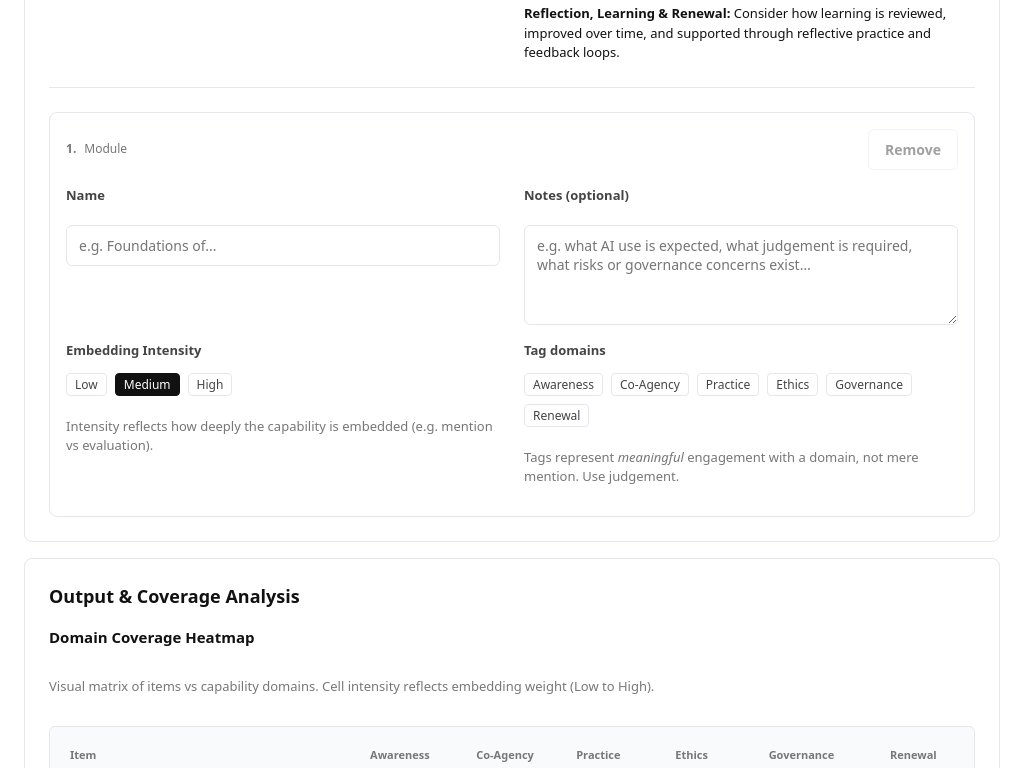
Test: AI Capability Programme Mapping — Regression Tests › 4. Capability domain mapping, gap calculations, and balance logic › toggles capability domain tags on and off and updates badge counts
(page scrolled)
Click the button "Ethics" at x=793, y=384, box [767, 372, 818, 396]
(page scrolled)
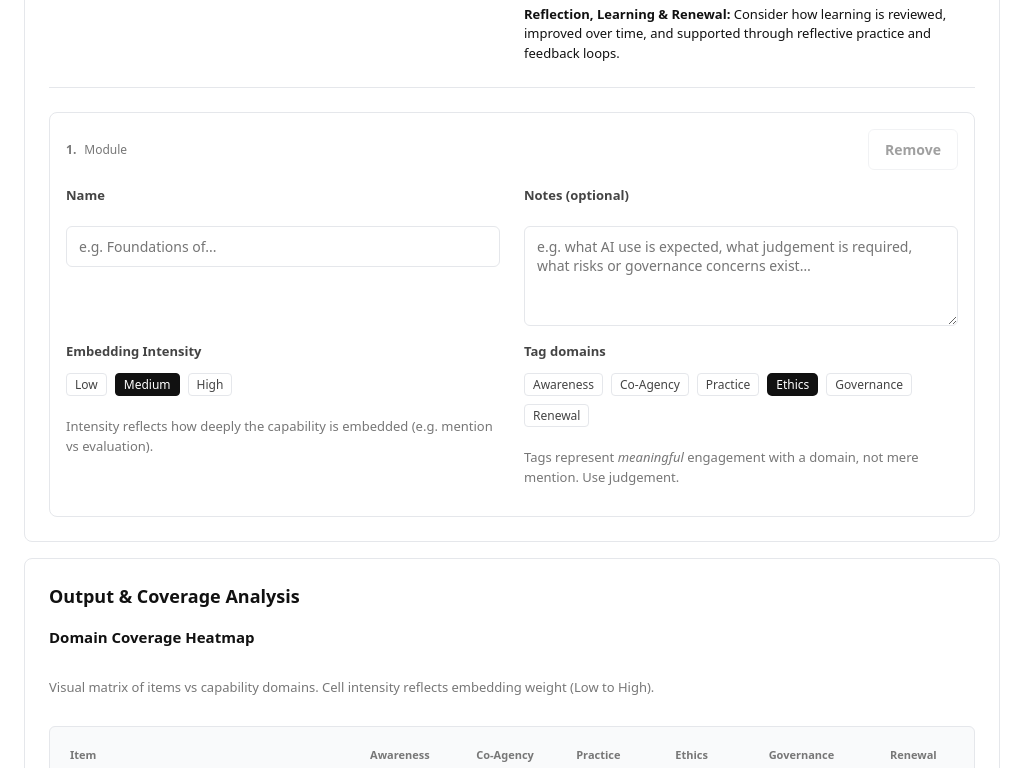
Result: the button "Ethics" is pressed
# Untoggle Ethics
Click the button "Ethics" at x=793, y=384, box [767, 373, 818, 396]
(page scrolled)
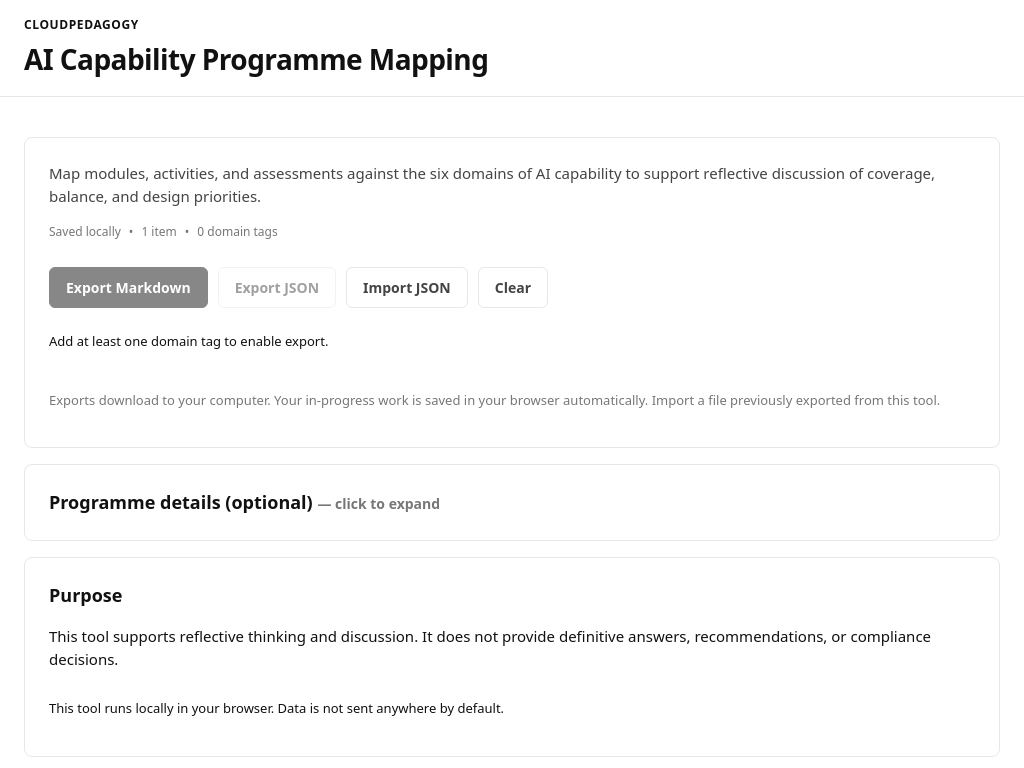
Result: the text "0 domain tags" is shown at [197, 223, 278, 241]
